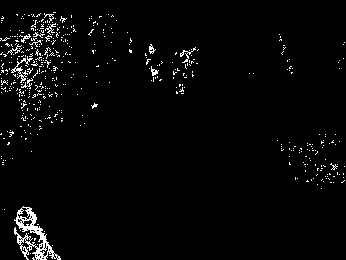person: (14, 205, 60, 260)
